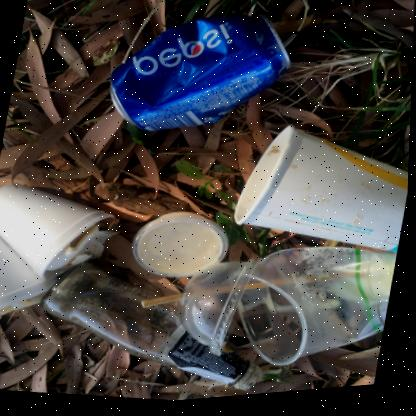Metal: (110, 18, 291, 134)
Paper: (236, 130, 410, 260), (143, 286, 272, 310)
Plastic: (42, 262, 264, 394), (239, 252, 399, 371), (180, 262, 263, 360), (133, 215, 231, 280), (133, 217, 231, 280)
Waste: (0, 182, 116, 280), (0, 234, 61, 317), (47, 224, 122, 271)
